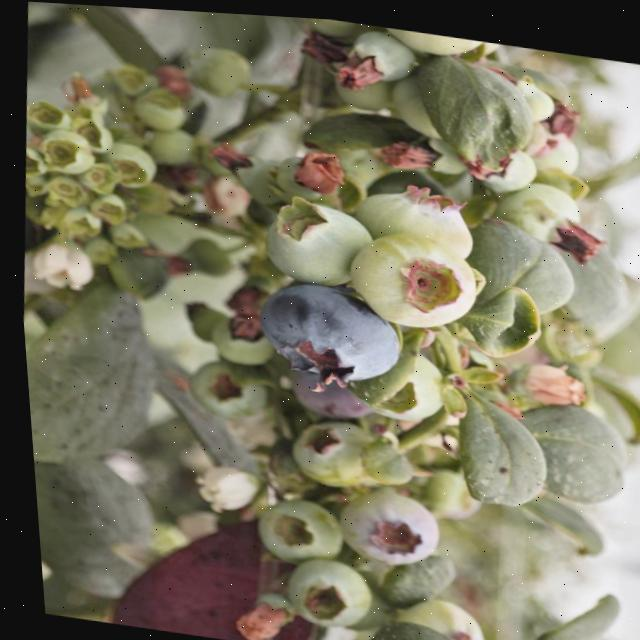RipeBlueBerry: (246, 275, 401, 387)
UnripeBlueBerry: (340, 223, 475, 329), (255, 188, 367, 286), (328, 480, 437, 569), (349, 177, 472, 252), (352, 342, 446, 424), (490, 172, 585, 246), (275, 552, 366, 629), (280, 410, 371, 486), (248, 490, 333, 563), (378, 589, 483, 640), (177, 356, 259, 420), (344, 21, 419, 81), (466, 136, 537, 194), (500, 65, 558, 120), (203, 309, 262, 363), (524, 124, 579, 171)
